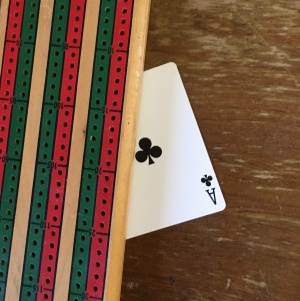card: (125, 61, 227, 240)
